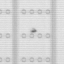dust: (30, 27, 37, 32)
